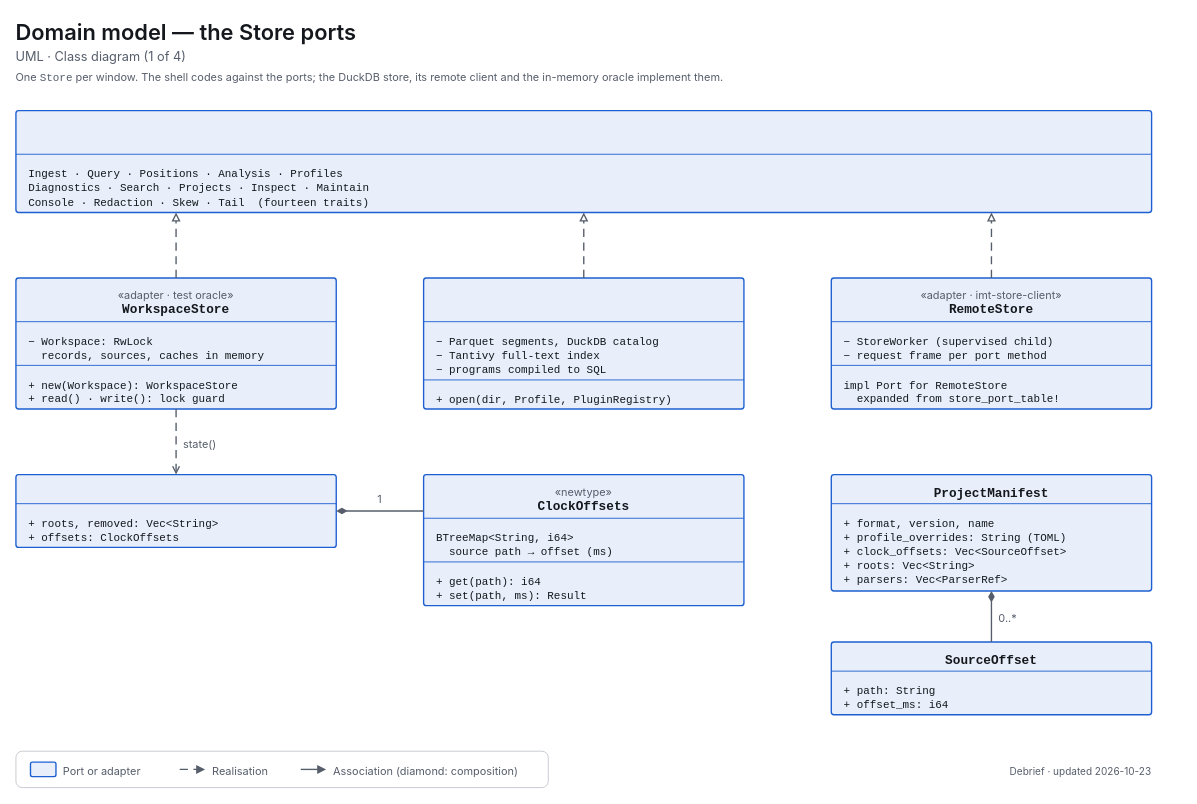
This 1197x804 diagram has some shape labels left out. The shapes that lost their labels are listed below. From the top down, each one's box as (x1, y1, x2, y2) in pixels, then its label:
(15, 109, 1152, 213): «interface · ports (imt_core::ports)» Store
(423, 277, 744, 409): «adapter · imt-store-duck» DuckStore
(15, 473, 337, 548): WorkspaceState
